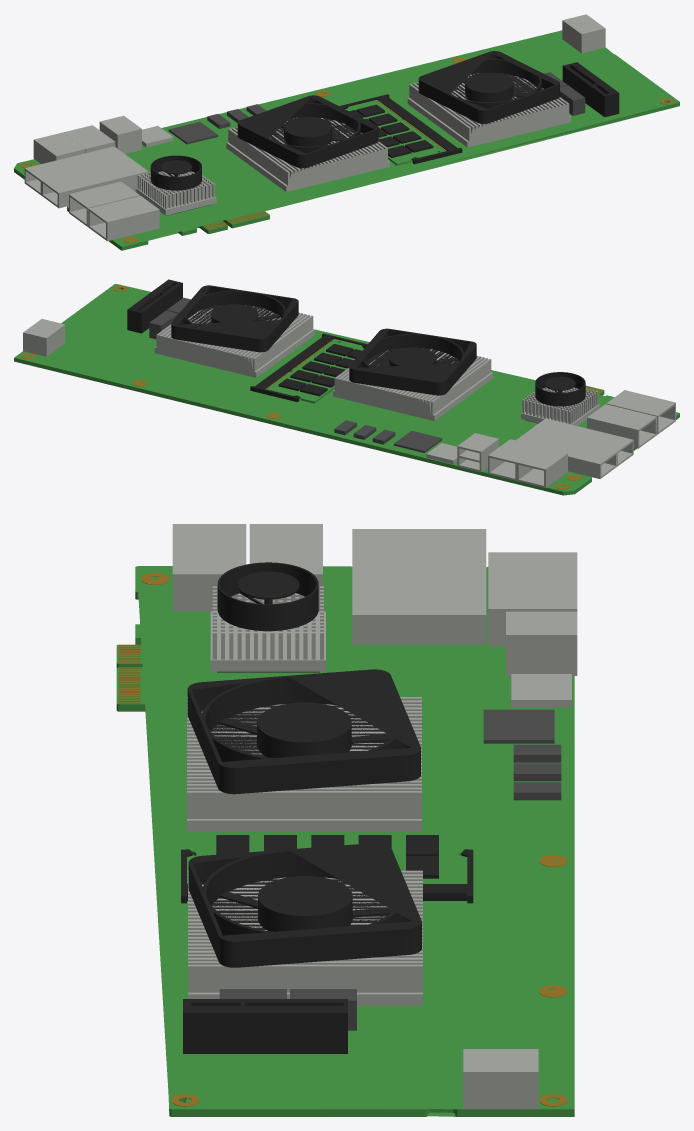
Rendered from T2080rdb.dae.
3 views of the same model, one above another, from view 1: azimuth 30°, elevation 25°; view 2: azimuth 150°, elevation 25°; view 3: azimuth 270°, elevation 25° (orthographic). The views are drawn at different scales.
Parts seen in each view (by area): view 1: Model (×3), fans (×3), ports (×8), heatsinks (×3), DIMM (×2), PCIe_4x_connectors, SATA; view 2: Model (×3), fans (×3), ports (×8), heatsinks (×3), DIMM (×2), PCIe_4x_connectors, SATA; view 3: Model (×6), fans (×3), ports (×8), heatsinks (×3), PCIe_4x_connectors, DIMM (×2), SATA.
Part boxes in pixels (<box>): Model (×3): <box>14,14,679,250</box>; fans (×3): <box>150,51,559,190</box>; ports (×8): <box>24,115,173,241</box>; heatsinks (×3): <box>136,73,570,215</box>; DIMM (×2): <box>339,94,462,165</box>; PCIe_4x_connectors: <box>562,62,619,117</box>; SATA: <box>560,85,585,115</box>; Model (×3): <box>14,284,679,495</box>; fans (×3): <box>171,285,585,406</box>; ports (×8): <box>426,390,675,487</box>; heatsinks (×3): <box>154,305,599,425</box>; DIMM (×2): <box>250,333,367,403</box>; PCIe_4x_connectors: <box>127,279,182,333</box>; SATA: <box>149,310,177,339</box>; Model (×6): <box>116,566,574,1116</box>; fans (×3): <box>187,562,421,967</box>; ports (×8): <box>172,524,577,707</box>; heatsinks (×3): <box>187,586,422,1005</box>; PCIe_4x_connectors: <box>183,999,347,1053</box>; DIMM (×2): <box>181,837,473,903</box>; SATA: <box>290,989,356,1030</box>.
Bounding box in the file's own units: 316 × 112 × 20.
